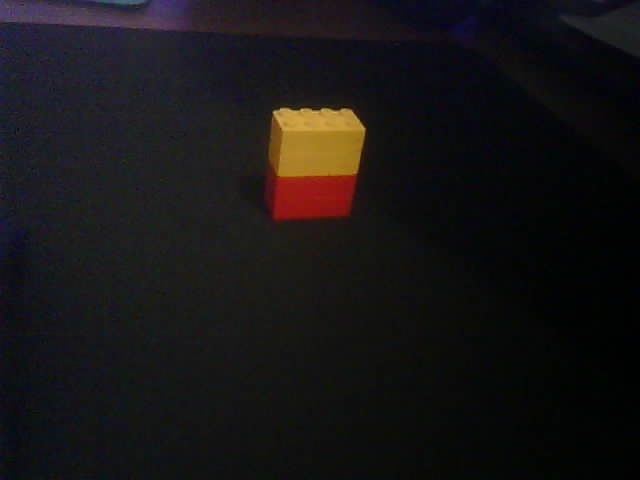lego: (264, 106, 366, 222)
